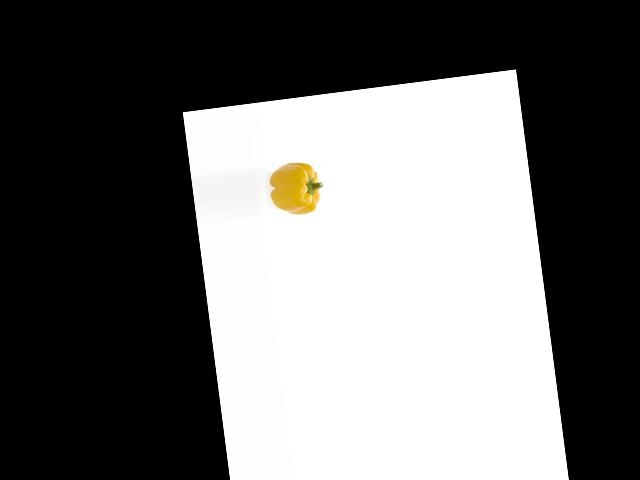bell_pepper: (265, 159, 328, 221)
